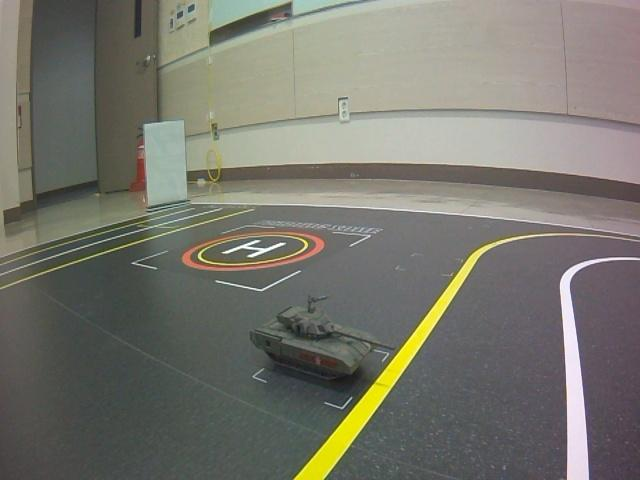Tank: (250, 296, 403, 386)
